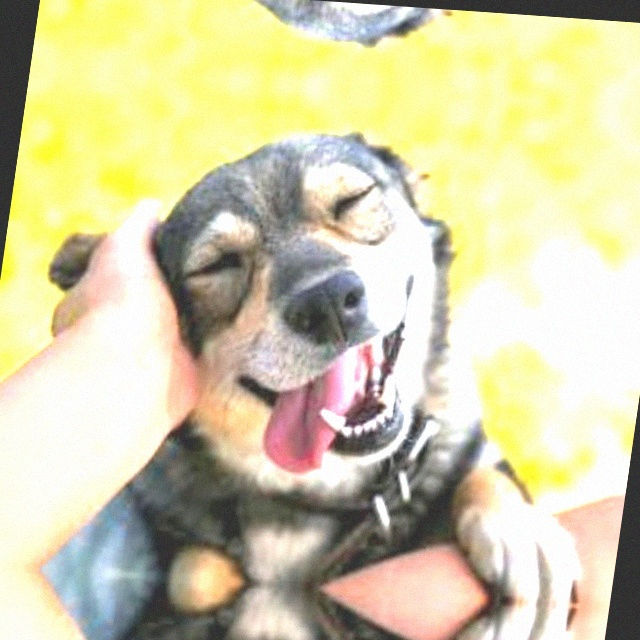dog: (100, 110, 616, 603), (176, 0, 632, 72), (88, 573, 549, 640)
